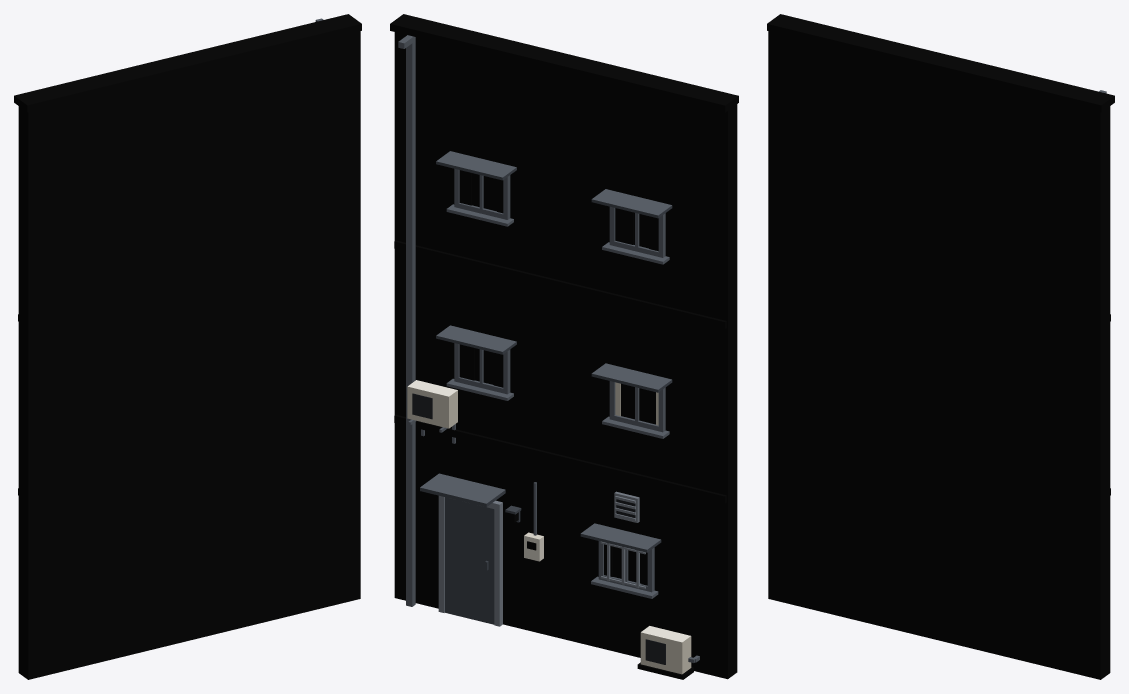
The model's file is BackFacade_C.fbx.
3 views of the same model, side by side, from view 1: azimuth 30°, elevation 25°; view 2: azimuth 150°, elevation 25°; view 3: azimuth 330°, elevation 25° (orthographic).
Parts seen in each view (by area): view 1: Body.010, Coping.002; view 2: Body.010, WinFrame.014, Coping.002, Hoods.011, Band.002, BackDoor.002, Pipes.014, AirCon.008, Glass.014, DoorFrame.002, Curtain2.011, DoorHood.002 (+6 smaller); view 3: Body.010, Coping.002.
Boxes of the visible parts, <box> form: Body.010: <box>18,31,360,679</box>; Coping.002: <box>14,14,361,112</box>; Body.010: <box>394,32,737,679</box>; WinFrame.014: <box>446,168,669,598</box>; Coping.002: <box>390,14,738,112</box>; Hoods.011: <box>436,151,672,552</box>; Band.002: <box>394,240,726,503</box>; BackDoor.002: <box>445,497,494,624</box>; Pipes.014: <box>398,35,699,662</box>; AirCon.008: <box>407,380,691,674</box>; Glass.014: <box>471,173,655,550</box>; DoorFrame.002: <box>438,495,502,626</box>; Curtain2.011: <box>459,208,658,387</box>; DoorHood.002: <box>420,473,505,507</box>; Body.010: <box>768,31,1110,679</box>; Coping.002: <box>767,14,1114,112</box>.
Size of the model in its own units: 6.04 by 9.92 by 0.91.
